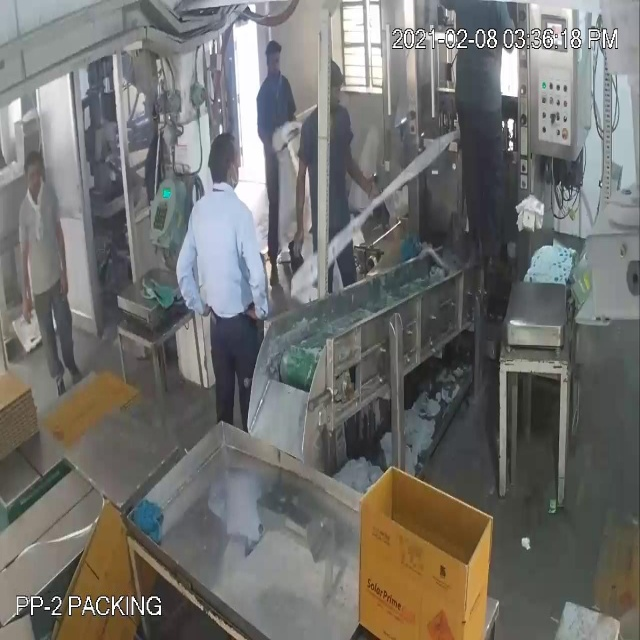Sin_guantes: (238, 219, 274, 337), (166, 212, 204, 321), (288, 142, 314, 267), (332, 140, 381, 204), (17, 223, 41, 340), (49, 203, 70, 313)
